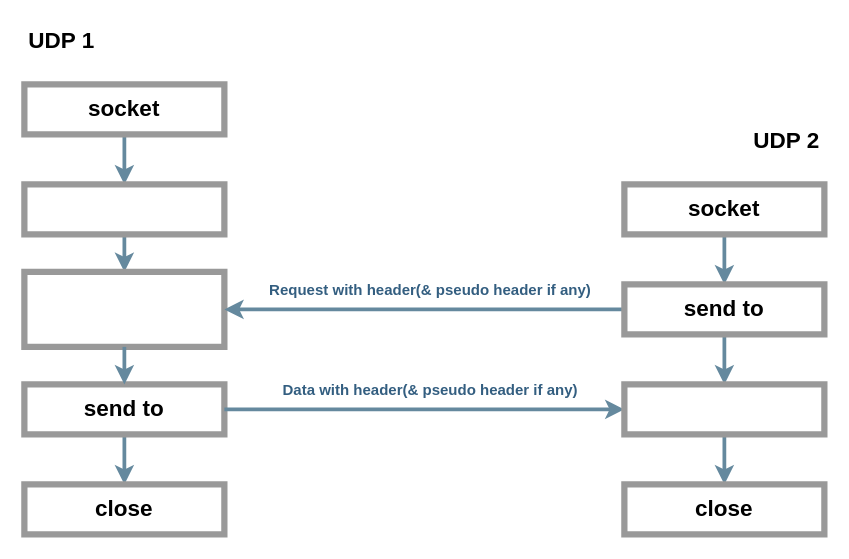
This 849x559 diagram has some shape labels left out. The centre of each missing label's shape, as x and y in pixels:
"bind" belongs at point 124,209.
"receive from" belongs at point 724,409.
"receive from block until recieved" belongs at point 124,308.
